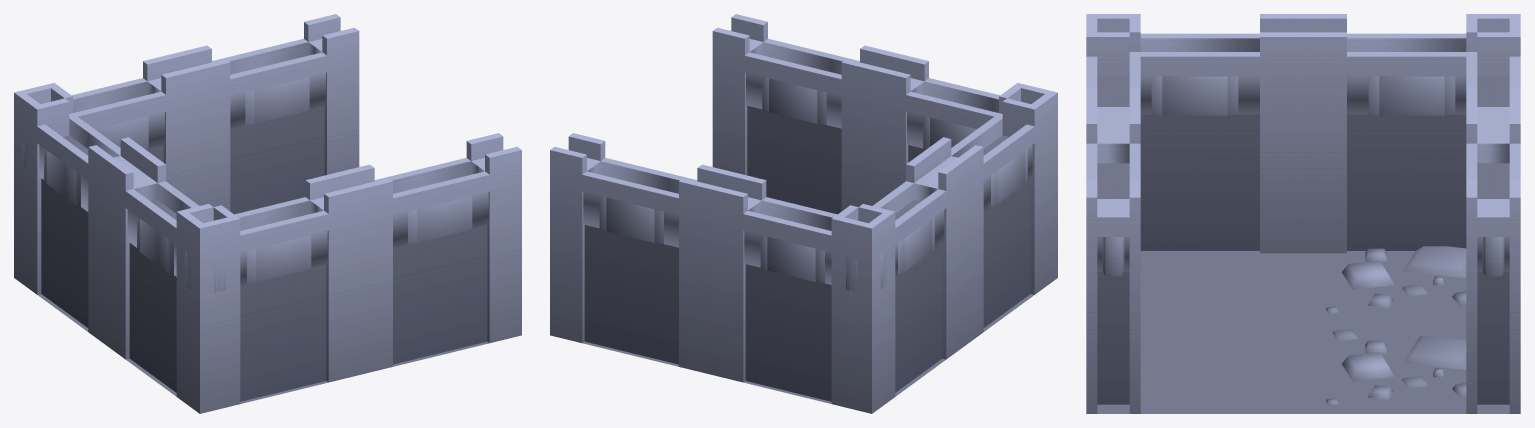
The model's file is Tile_13.glb.
3 views of the same model, side by side, from view 1: azimuth 30°, elevation 25°; view 2: azimuth 150°, elevation 25°; view 3: azimuth 270°, elevation 25° (orthographic). The views are drawn at different scales.
Visible parts, largest first — view 1: tile_13; view 2: tile_13; view 3: tile_13.
Part boxes in pixels (bbox=[...]): tile_13: bbox=[14, 14, 521, 413]; tile_13: bbox=[550, 14, 1057, 413]; tile_13: bbox=[1086, 14, 1520, 413].
Size of the model in its own units: 2 by 1.1 by 2.
10 materials, 10 textured.
